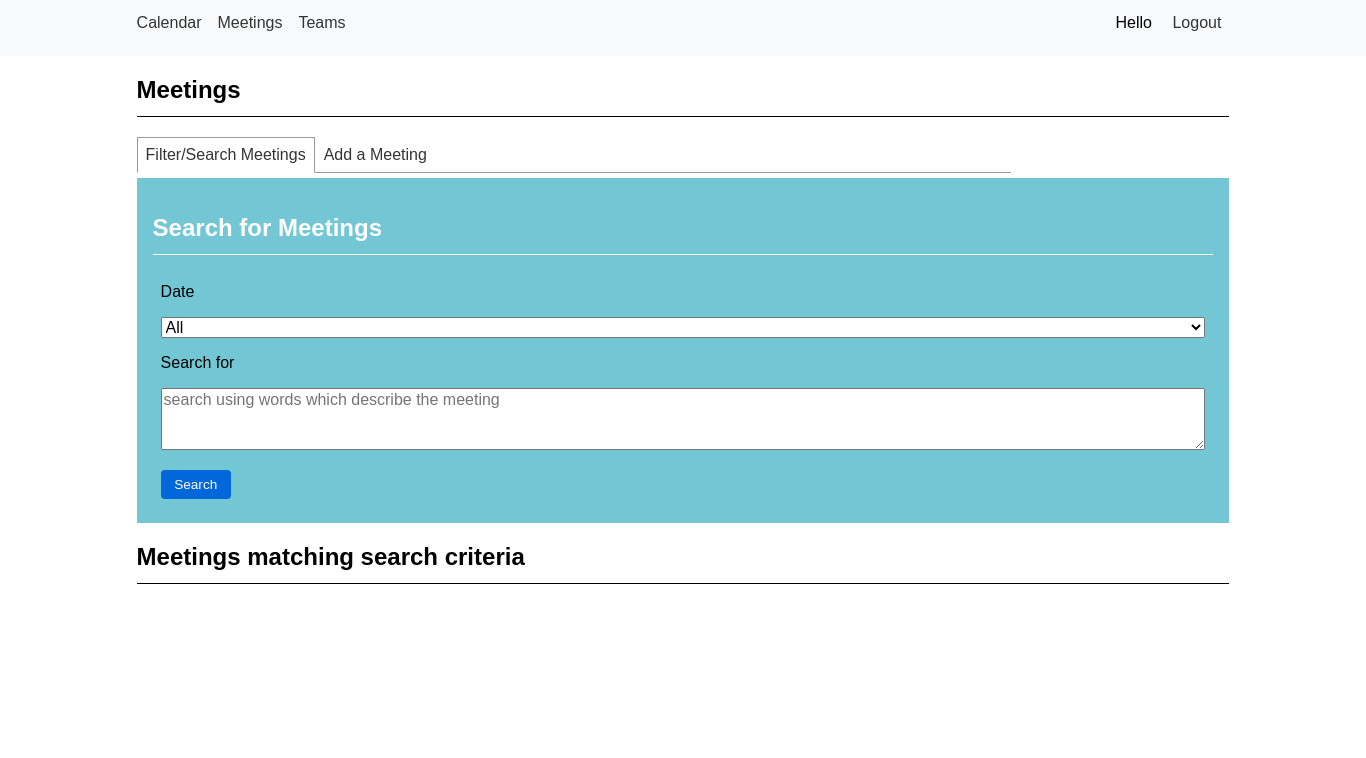
Test: should excuse a meeting
Click the button "Search" at x=196, y=484, box [161,470,231,499]
(page scrolled)
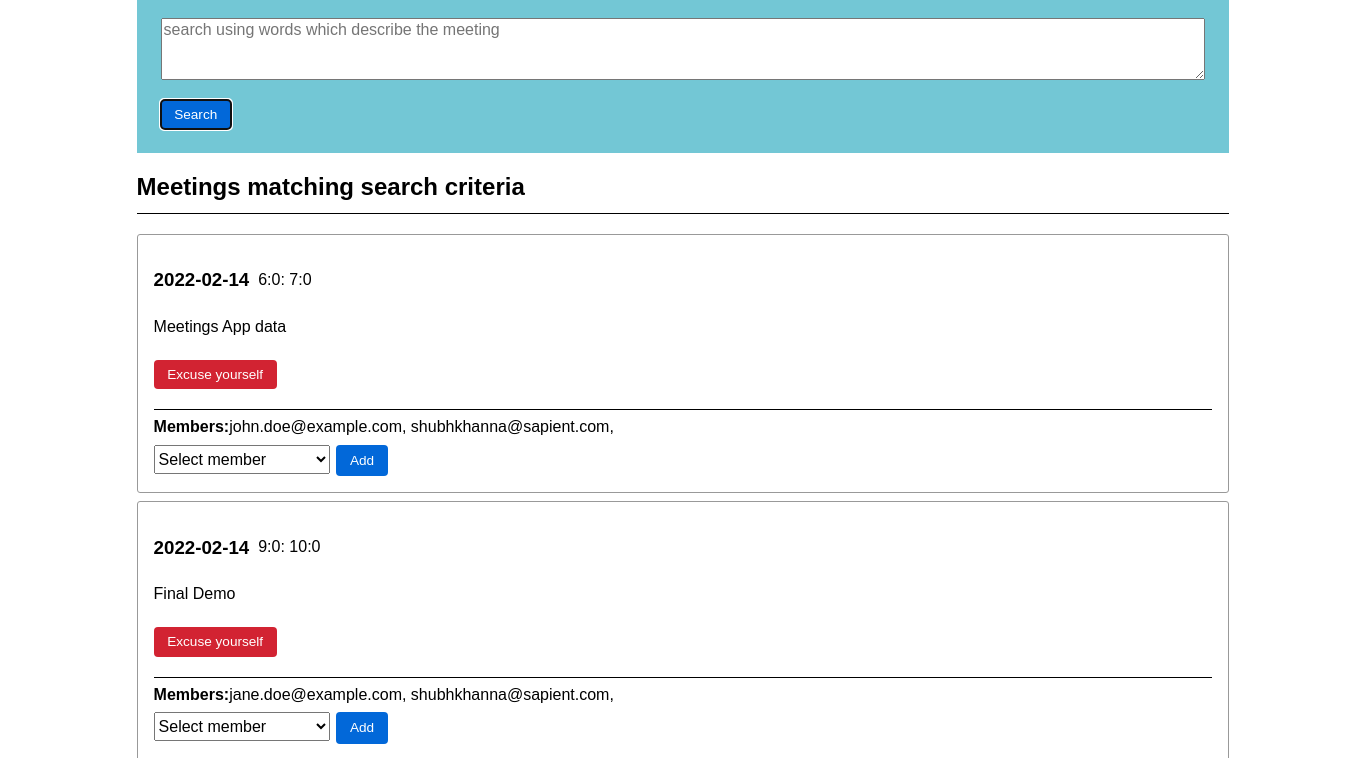
Click the button "Excuse yourself" below "Meetings App data" at x=215, y=374, box [154,360,277,389]
(page scrolled)
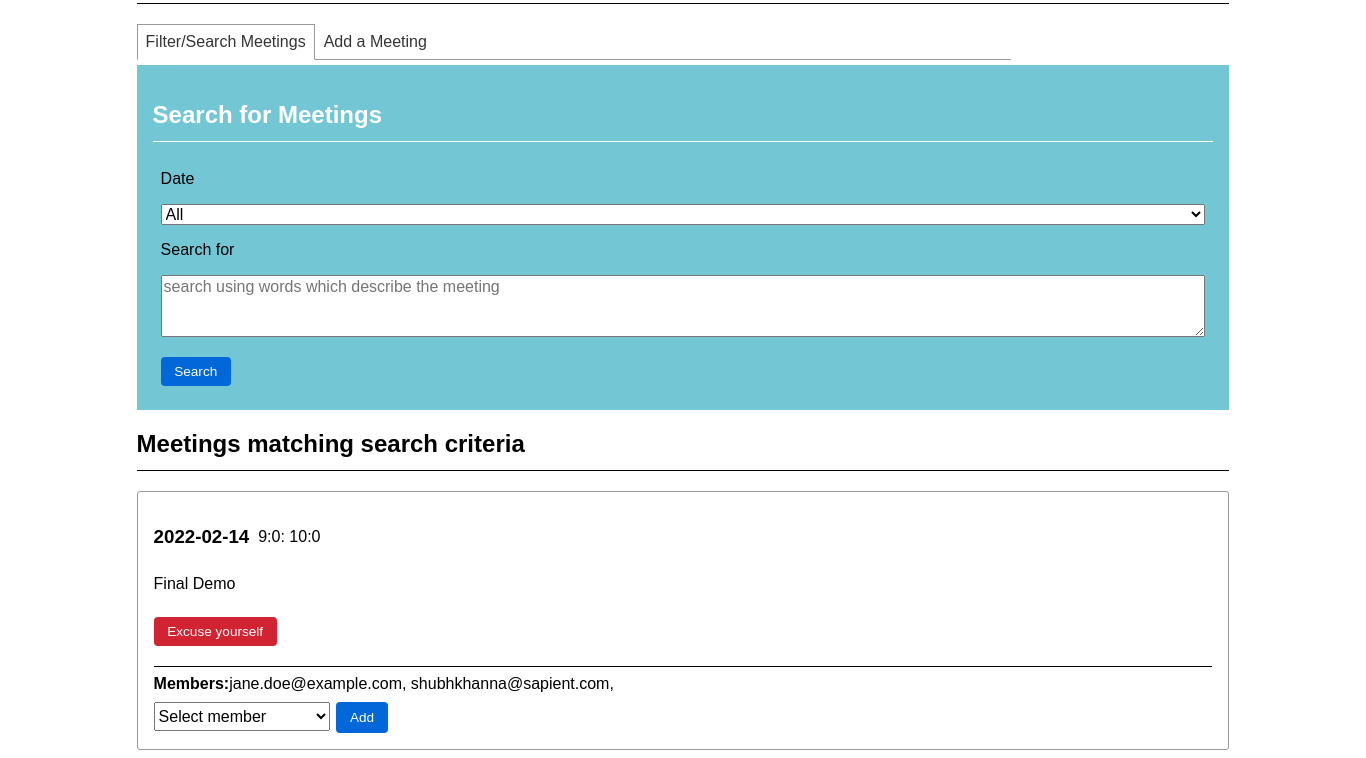
Result: the element with test id "6203b5476b8f5c0015bbdf4b" is gone
